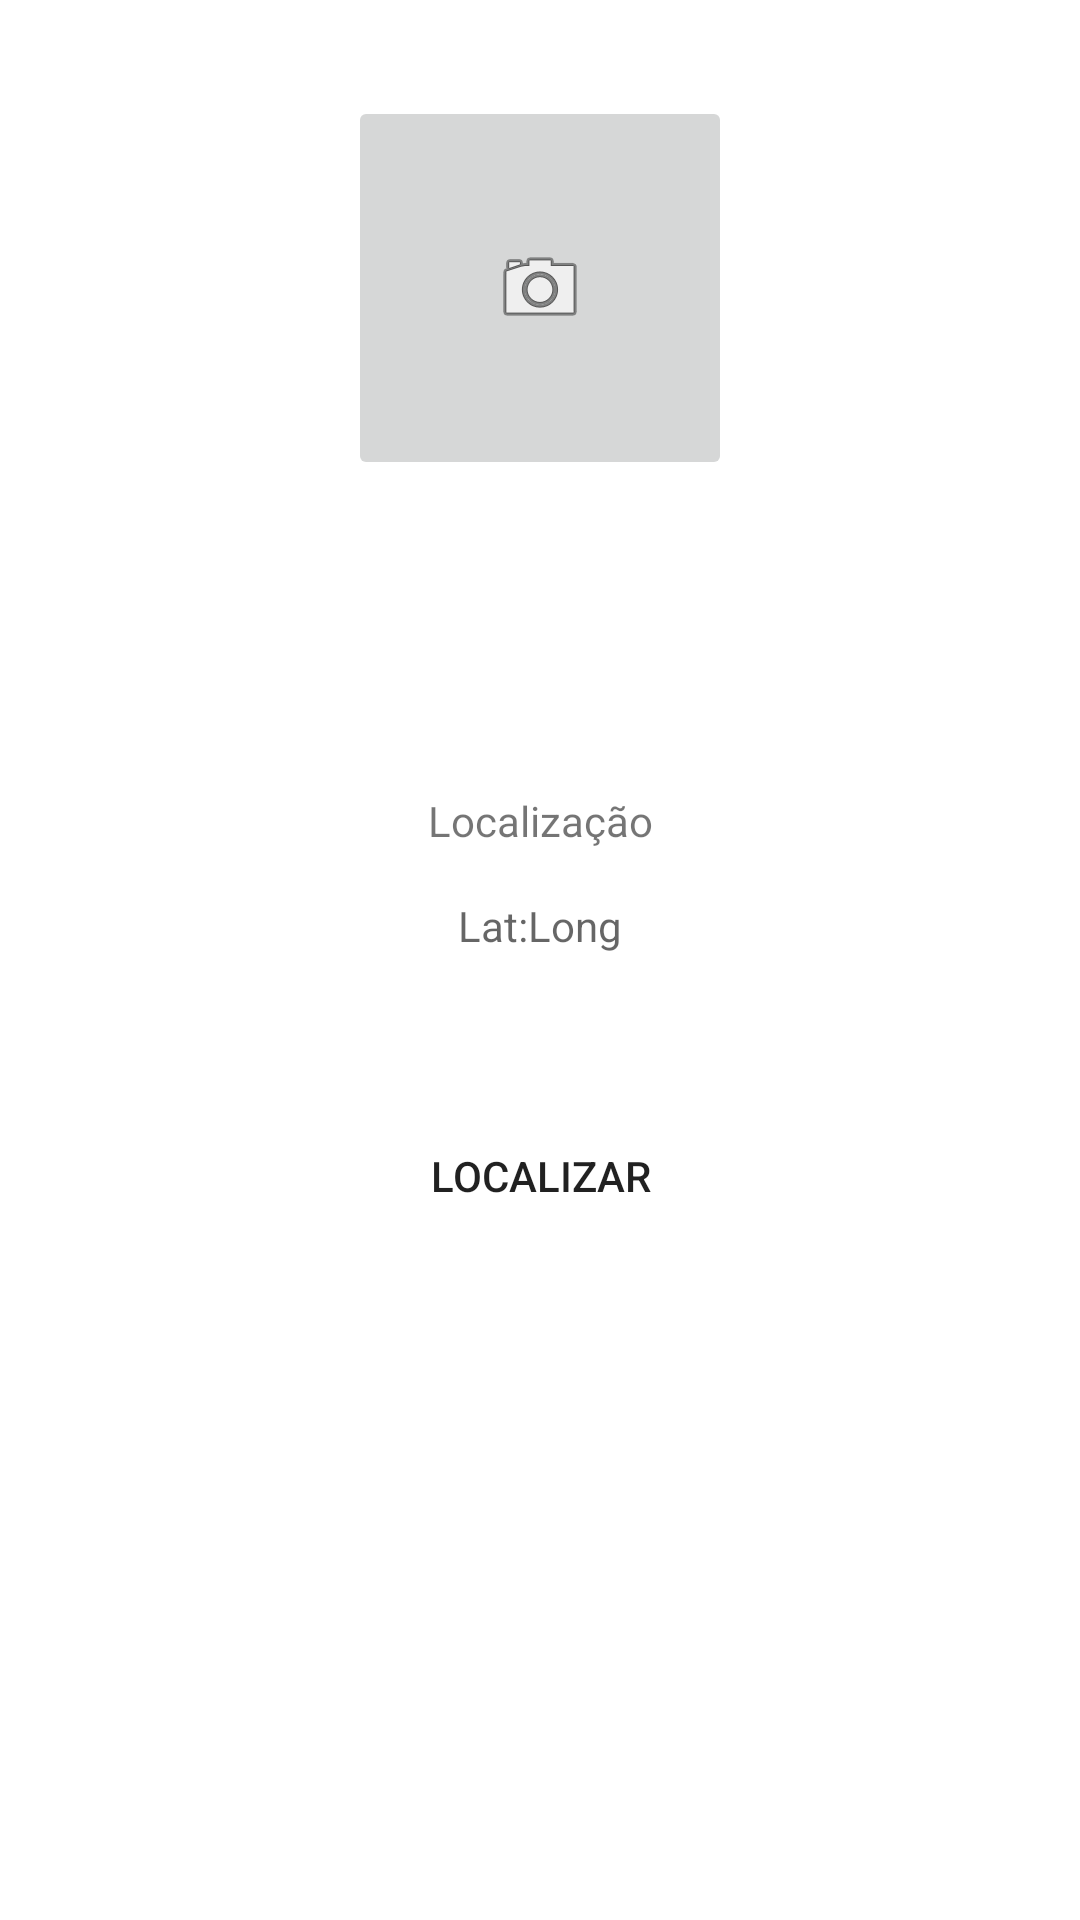

Named icons in this screenshot (1080 x 1920) and their bounding boxes, detection(x1, y1, x2, y2):
camera: detection(360, 114, 720, 462)
